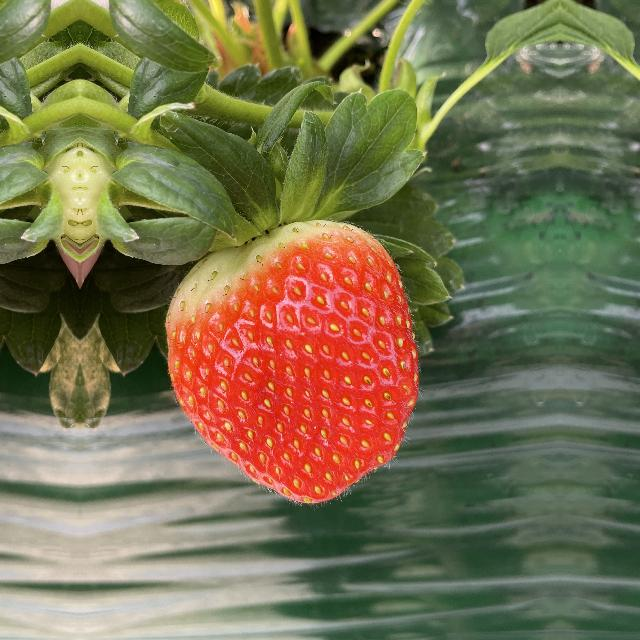Health_100: (157, 215, 425, 509)
